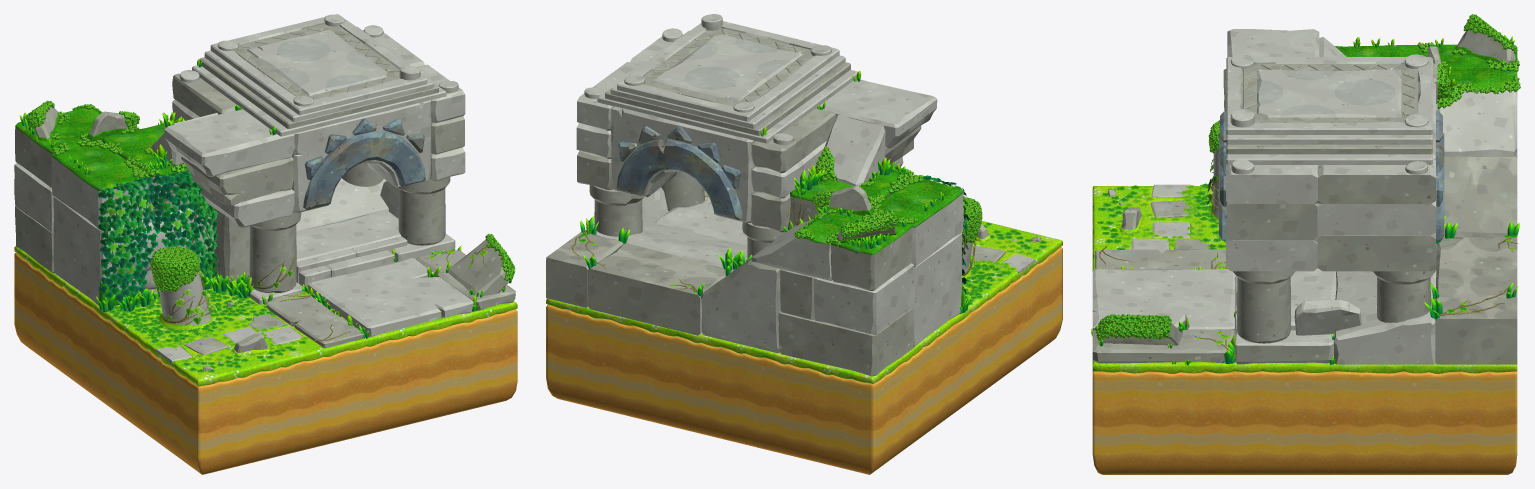
File: Episode 1 Intro.fbx
The picture shows the model from 3 angles, left to right: view 1: azimuth 30°, elevation 25°; view 2: azimuth 150°, elevation 25°; view 3: azimuth 270°, elevation 25°; orthographic projection. The views are drawn at different scales.
Parts seen in each view (by area): view 1: pCube1028__OpStone00_AI, polySurface11266__DanmenSoilLayer00_S, pCube1072__OpStone03_AI, polySurface10021__OpGrass_AI, polySurface10418__OpPlant01_AI, pCube1083__Danmen_Stone00_AI, polySurface10754__OpLawn02_AI, polySurface11151__OpStone01_AI, polySurface9525__OpStone04_AI, polySurface11012__OpLawn01_AI, polySurface11266__DanmenOpLawn01_AI, pCube1072__DanmenOpStone03_AI (+3 smaller); view 2: polySurface11266__DanmenSoilLayer00_S, pCube1028__OpStone00_AI, pCube1072__OpStone03_AI, pCube1083__Danmen_Stone00_AI, pCube1072__DanmenOpStone03_AI, polySurface10418__OpPlant01_AI, polySurface11151__OpStone01_AI, polySurface9525__OpStone04_AI, polySurface10754__OpLawn02_AI, pCube1072__OpStone05_AI, polySurface11266__DanmenOpLawn01_AI, BRGrassA_AI1__Grass00_AI (+1 smaller); view 3: polySurface11266__DanmenSoilLayer00_S, pCube1028__OpStone00_AI, pCube1072__OpStone03_AI, pCube1072__DanmenOpStone03_AI, pCube1083__Danmen_Stone00_AI, pCube1072__OpStone05_AI, polySurface10418__OpPlant01_AI, polySurface9525__OpStone04_AI, polySurface11012__OpLawn01_AI, polySurface11266__DanmenOpLawn01_AI, polySurface10754__OpLawn02_AI, polySurface11151__OpStone01_AI (+2 smaller).
Boxes of the visible parts, x1,y1,x2,y2 form: pCube1028__OpStone00_AI: (14, 14, 473, 362); polySurface11266__DanmenSoilLayer00_S: (14, 253, 517, 474); pCube1072__OpStone03_AI: (34, 24, 515, 370); polySurface10021__OpGrass_AI: (97, 170, 218, 302); polySurface10418__OpPlant01_AI: (26, 100, 515, 372); pCube1083__Danmen_Stone00_AI: (14, 157, 473, 362); polySurface10754__OpLawn02_AI: (15, 107, 510, 307); polySurface11151__OpStone01_AI: (303, 118, 425, 209); polySurface9525__OpStone04_AI: (247, 29, 387, 95); polySurface11012__OpLawn01_AI: (15, 246, 516, 380); polySurface11266__DanmenOpLawn01_AI: (14, 246, 517, 386); pCube1072__DanmenOpStone03_AI: (15, 127, 515, 347); polySurface11266__DanmenSoilLayer00_S: (546, 247, 1062, 474); pCube1028__OpStone00_AI: (576, 14, 1034, 347); pCube1072__OpStone03_AI: (546, 28, 1040, 353); pCube1083__Danmen_Stone00_AI: (701, 192, 1035, 351); pCube1072__DanmenOpStone03_AI: (546, 227, 913, 376); polySurface10418__OpPlant01_AI: (579, 146, 1047, 309); polySurface11151__OpStone01_AI: (616, 126, 742, 219); polySurface9525__OpStone04_AI: (654, 34, 802, 101); polySurface10754__OpLawn02_AI: (790, 154, 976, 312); pCube1072__OpStone05_AI: (546, 232, 751, 298); polySurface11266__DanmenOpLawn01_AI: (546, 240, 1062, 383); BRGrassA_AI1__Grass00_AI: (580, 71, 970, 313); polySurface11266__DanmenSoilLayer00_S: (1092, 204, 1517, 474); pCube1028__OpStone00_AI: (1092, 29, 1517, 364); pCube1072__OpStone03_AI: (1092, 30, 1517, 363); pCube1072__DanmenOpStone03_AI: (1092, 175, 1517, 364); pCube1083__Danmen_Stone00_AI: (1226, 175, 1436, 364); pCube1072__OpStone05_AI: (1435, 156, 1517, 320); polySurface10418__OpPlant01_AI: (1095, 14, 1520, 344); polySurface9525__OpStone04_AI: (1257, 69, 1401, 117); polySurface11012__OpLawn01_AI: (1093, 186, 1516, 364); polySurface11266__DanmenOpLawn01_AI: (1092, 186, 1517, 373); polySurface10754__OpLawn02_AI: (1100, 22, 1517, 335); polySurface11151__OpStone01_AI: (1219, 111, 1444, 240).
Size of the model in its own units: 4013 by 3390 by 3858.
